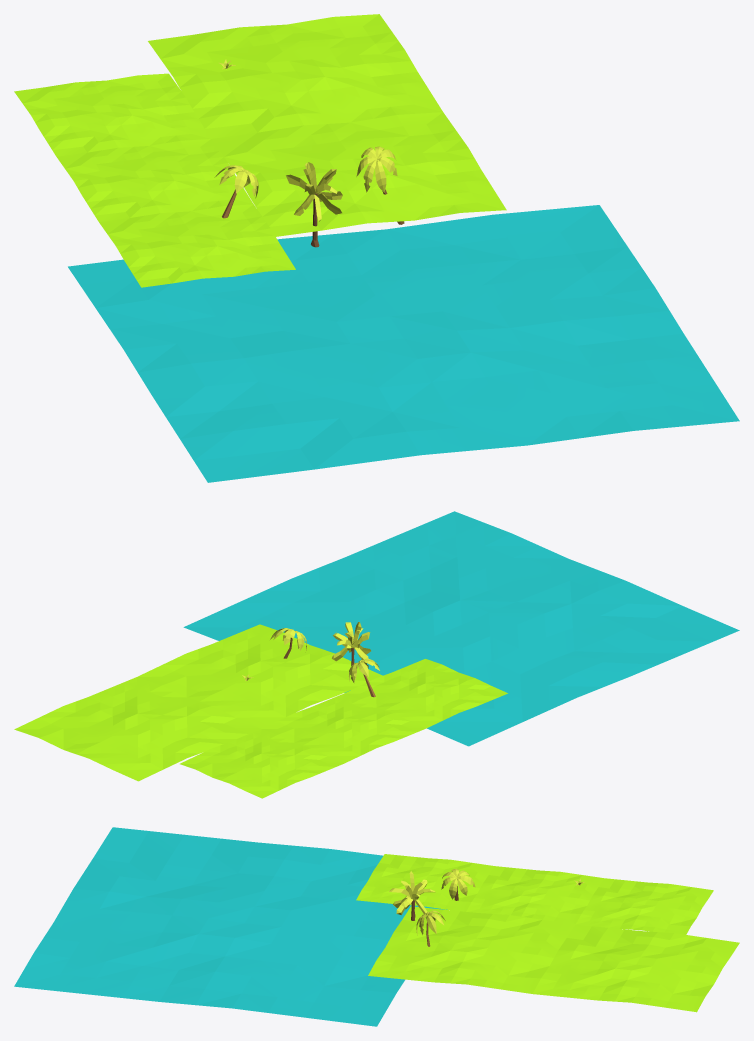
The picture shows the model from 3 angles, top to bottom: view 1: azimuth 30°, elevation 25°; view 2: azimuth 150°, elevation 25°; view 3: azimuth 270°, elevation 25°; orthographic projection. The views are drawn at different scales.
Visible parts, largest first — view 1: -mesh; view 2: -mesh; view 3: -mesh.
Part boxes in pixels (x1=…): -mesh: x1=14, y1=14, x2=739, y2=482; -mesh: x1=14, y1=511, x2=739, y2=798; -mesh: x1=14, y1=827, x2=739, y2=1026.
Size of the model in its own units: 33.69 by 5.82 by 51.23.
